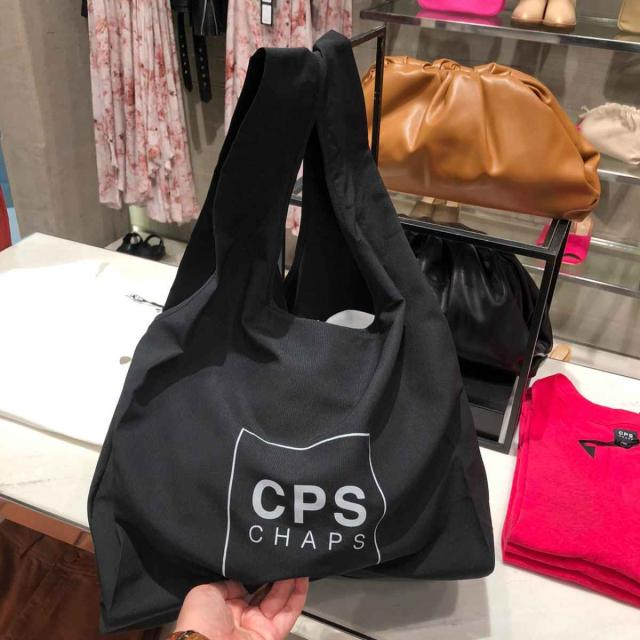Handbag: (87, 32, 503, 592)
